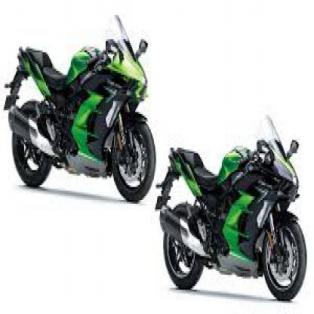Motocicleta: (160, 111, 313, 303), (7, 13, 156, 210)
